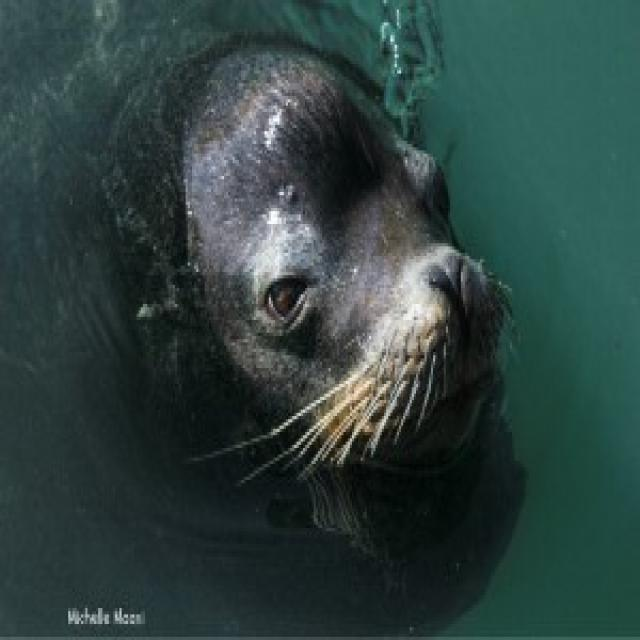Seal: (52, 24, 538, 568)
